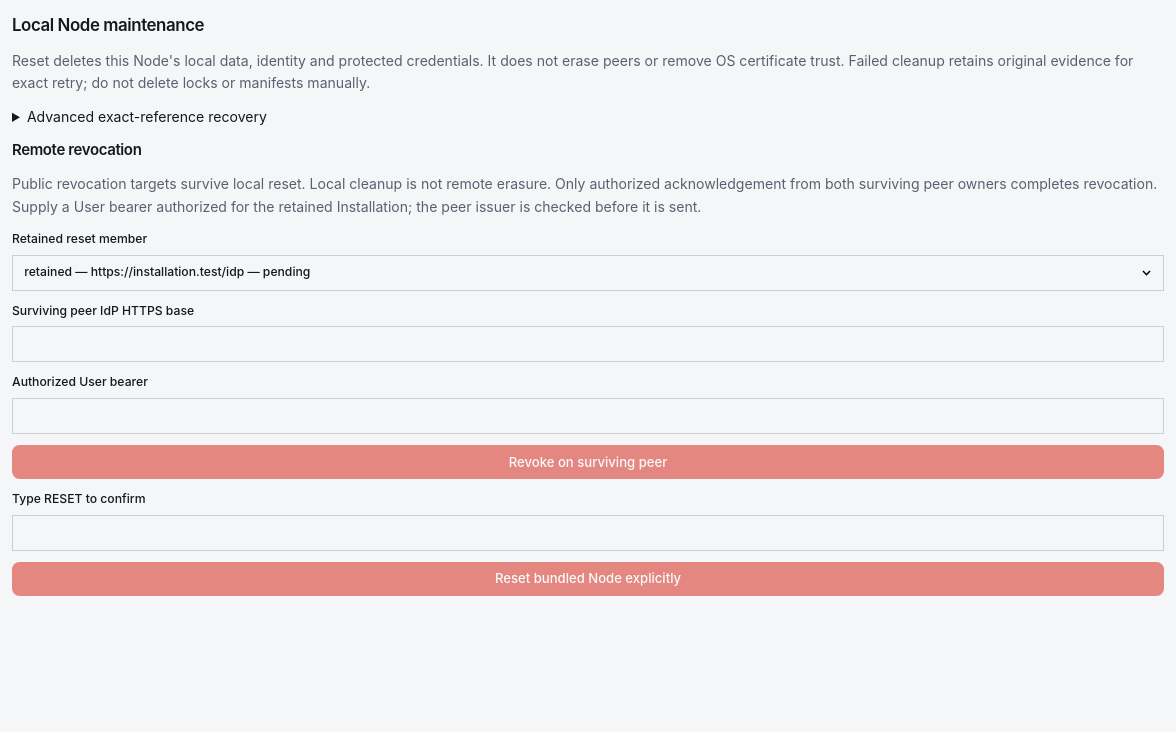
Scenario: never borrows an ambient bearer and retains a partial peer failure for exact retry
Expected: the button "Revoke on surviving peer" is shown, [12, 445, 1164, 479]
Type "https://peer.test/idp" into the field labelled "Surviving peer IdP HTTPS base". click: (588,344)
box: [12, 326, 1164, 362]
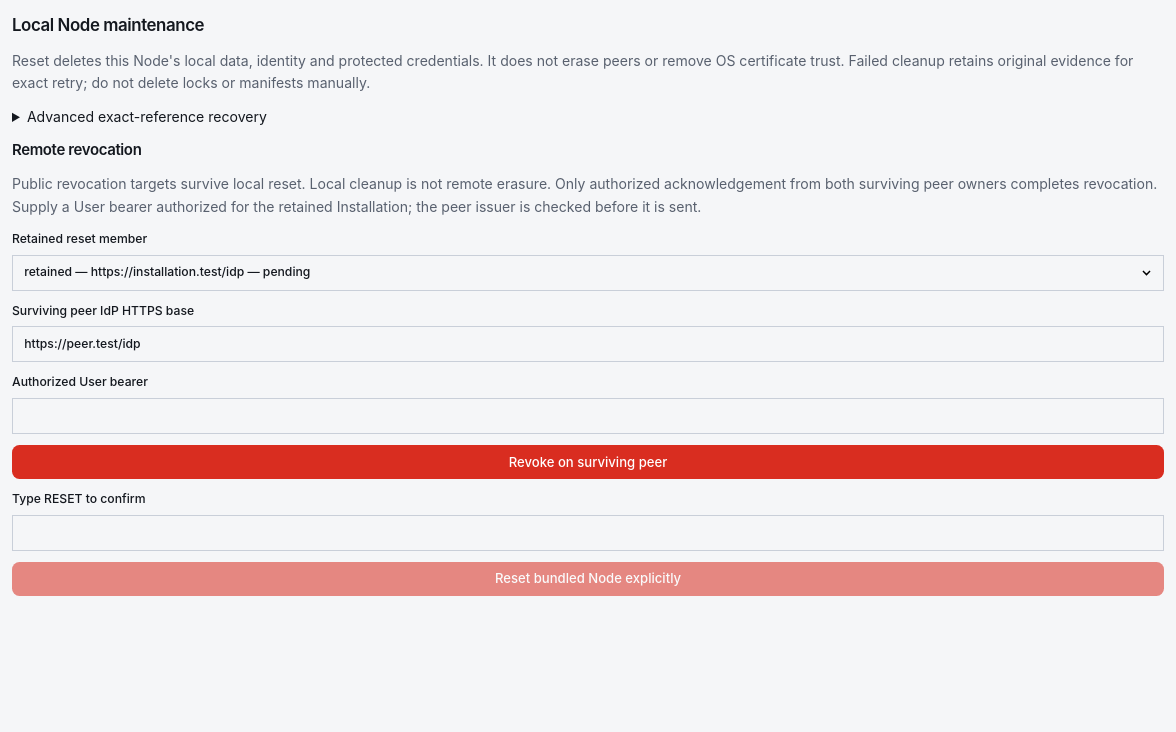
Click the button "Revoke on surviving peer". click: (588,462)
box: [12, 445, 1164, 479]
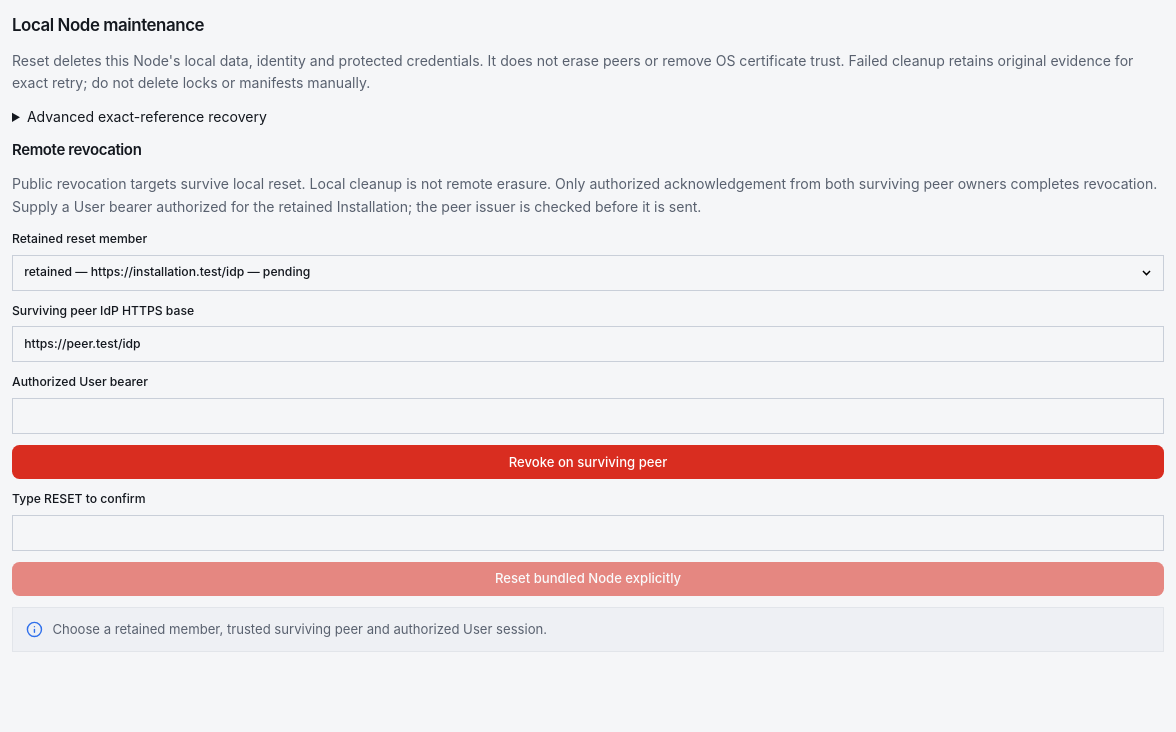
Now the text "authorized User session" is shown, box [52, 621, 547, 637]
Type "transient-user-token" into the password field labelled "Authorized User bearer". click: (588,416)
box: [12, 398, 1164, 434]
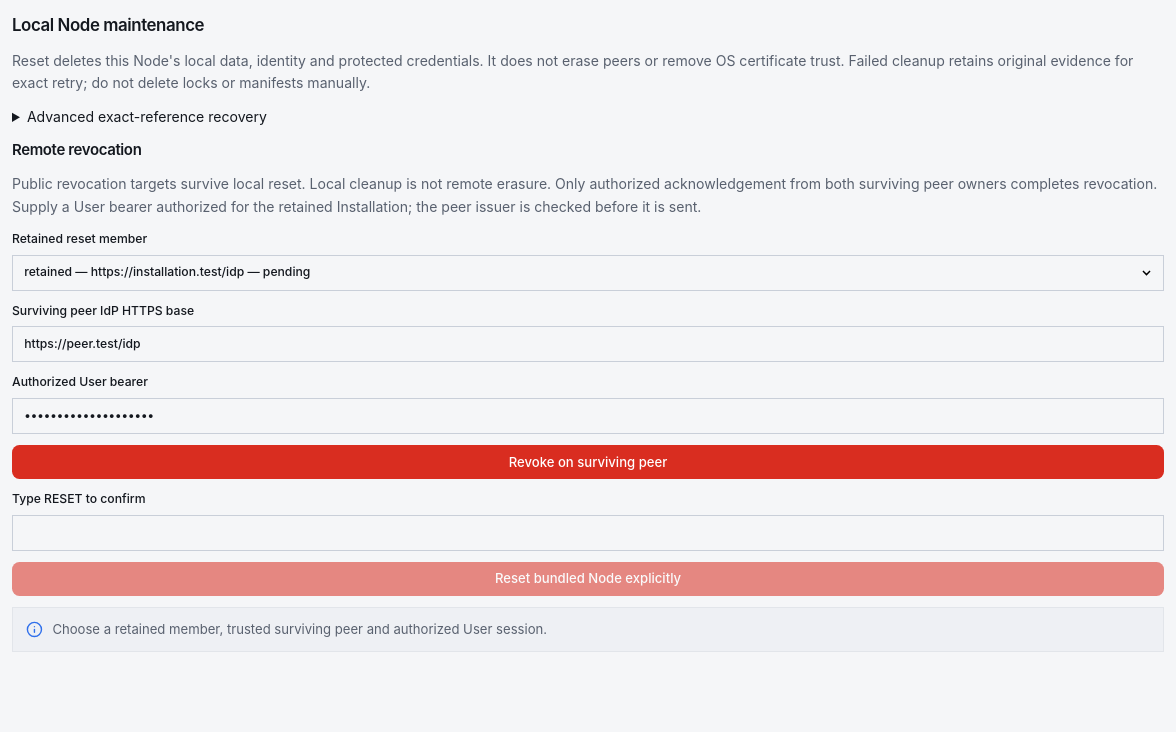
Click the button "Revoke on surviving peer". click: (588,462)
box: [12, 445, 1164, 479]
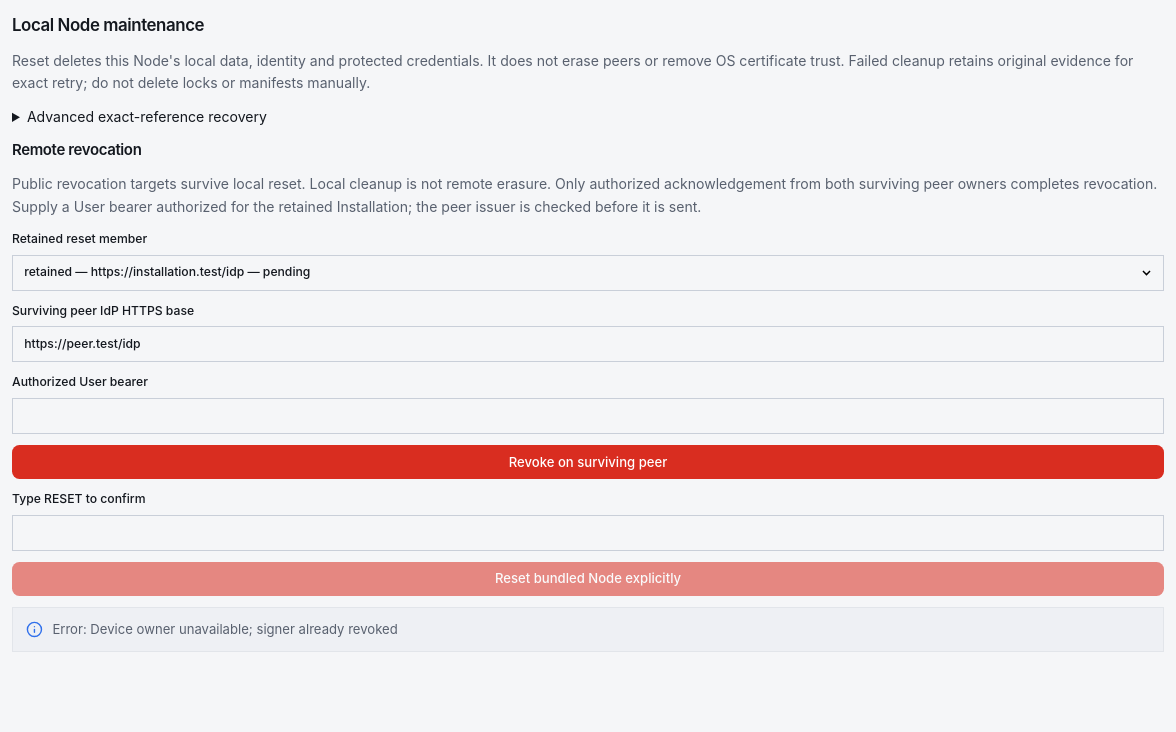
Now the text "Device owner unavailable" is shown, box [52, 621, 398, 637]
Now the password field labelled "Authorized User bearer" is empty, box [12, 398, 1164, 434]
